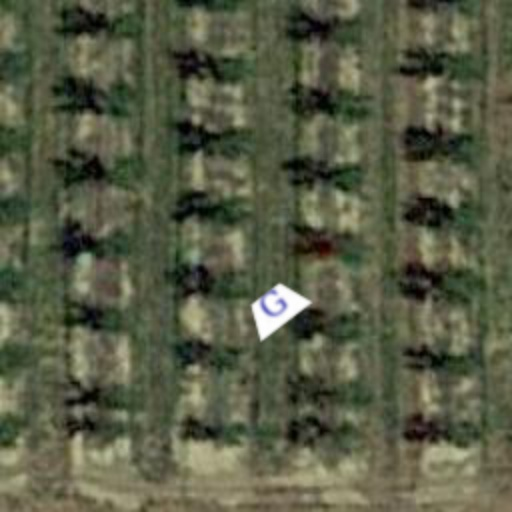trapezoid: (230, 262, 322, 354)
